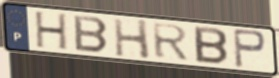B: (192, 24, 230, 67), (72, 13, 110, 55)
H: (111, 18, 152, 62), (34, 10, 69, 52)
P: (231, 27, 269, 70)
R: (150, 22, 191, 62)
